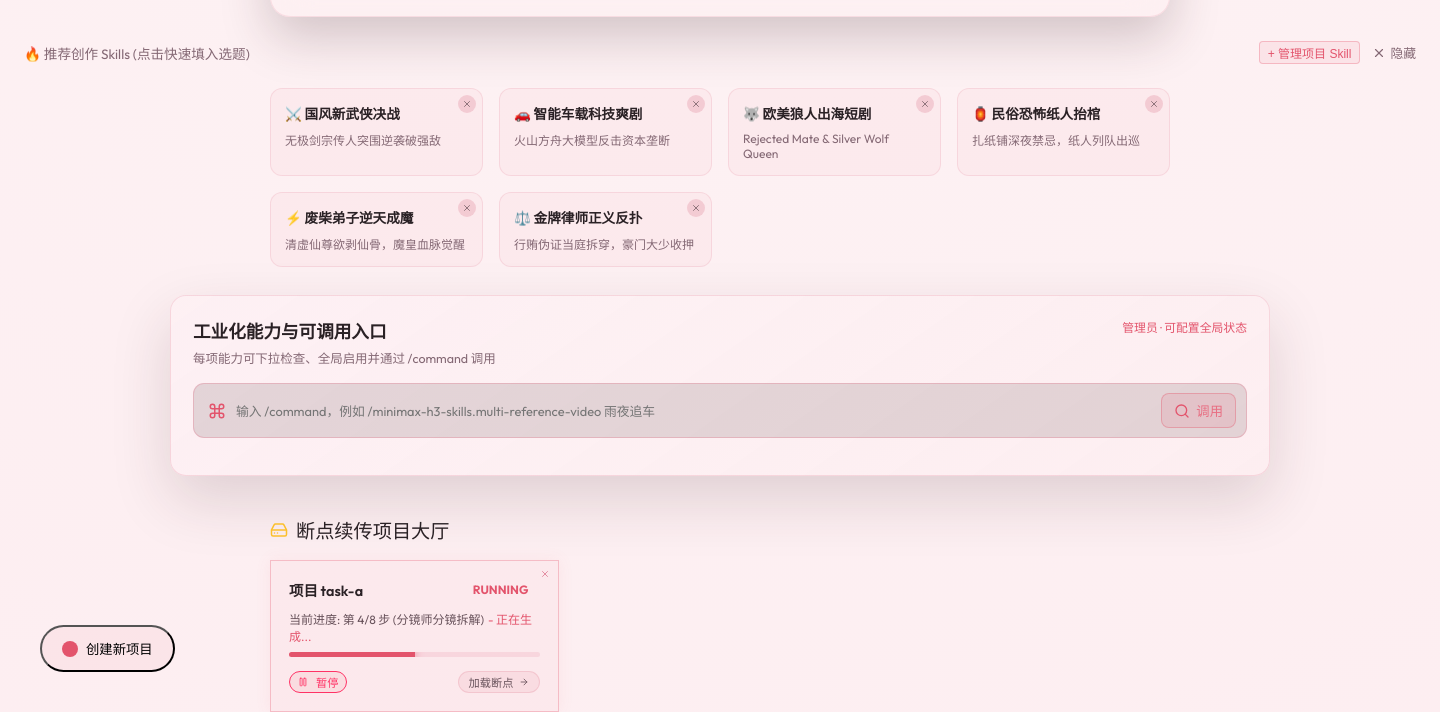
Scenario: App follows the server workflow › receives every durable stage transition even when several stages finish between polls
(page scrolled)
Click the text "项目 task-a".
click(326, 590)  # box left=289, top=579, right=363, bottom=600
Wait 3200 ms
(page scrolled)
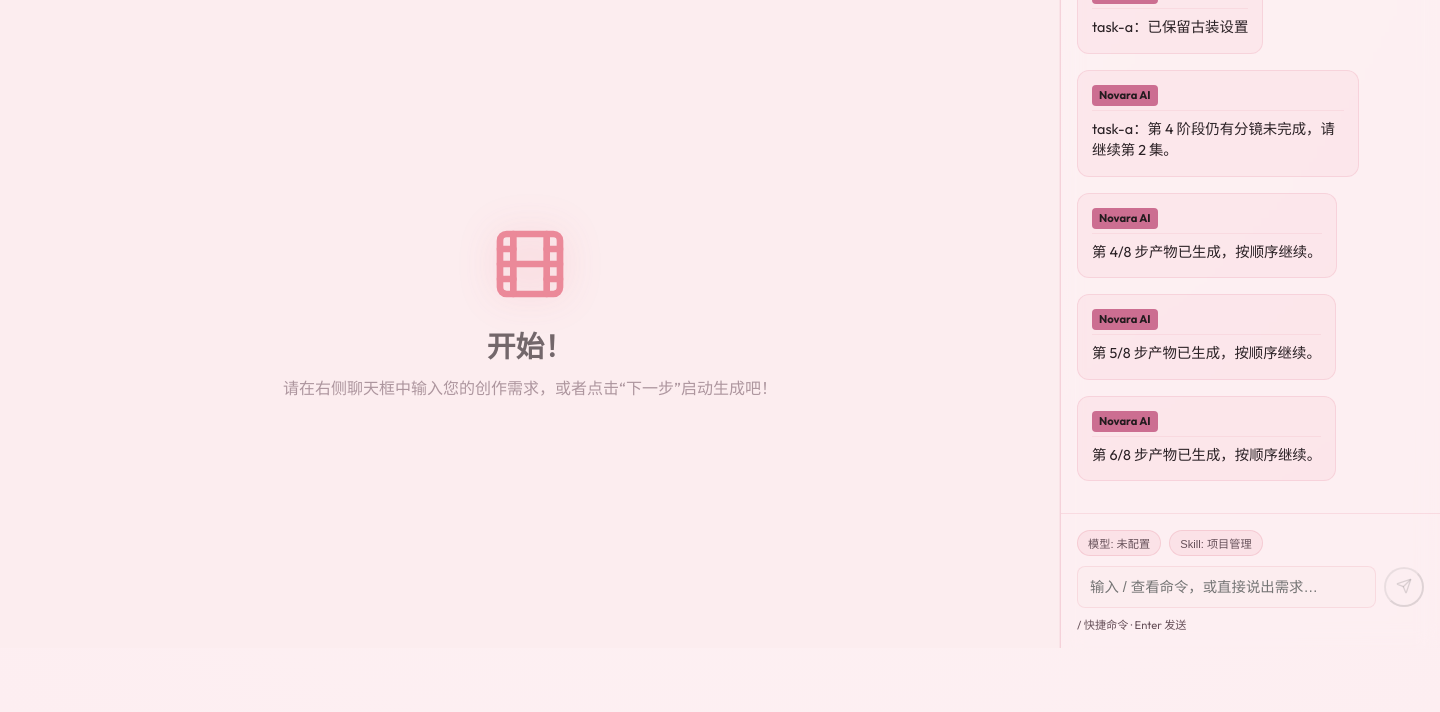
Result: the text "task-a：已保留古装设置" is shown at left=1092, top=17, right=1248, bottom=39
